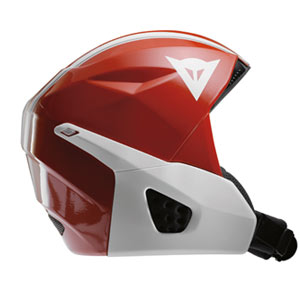helmet: (31, 42, 282, 247)
